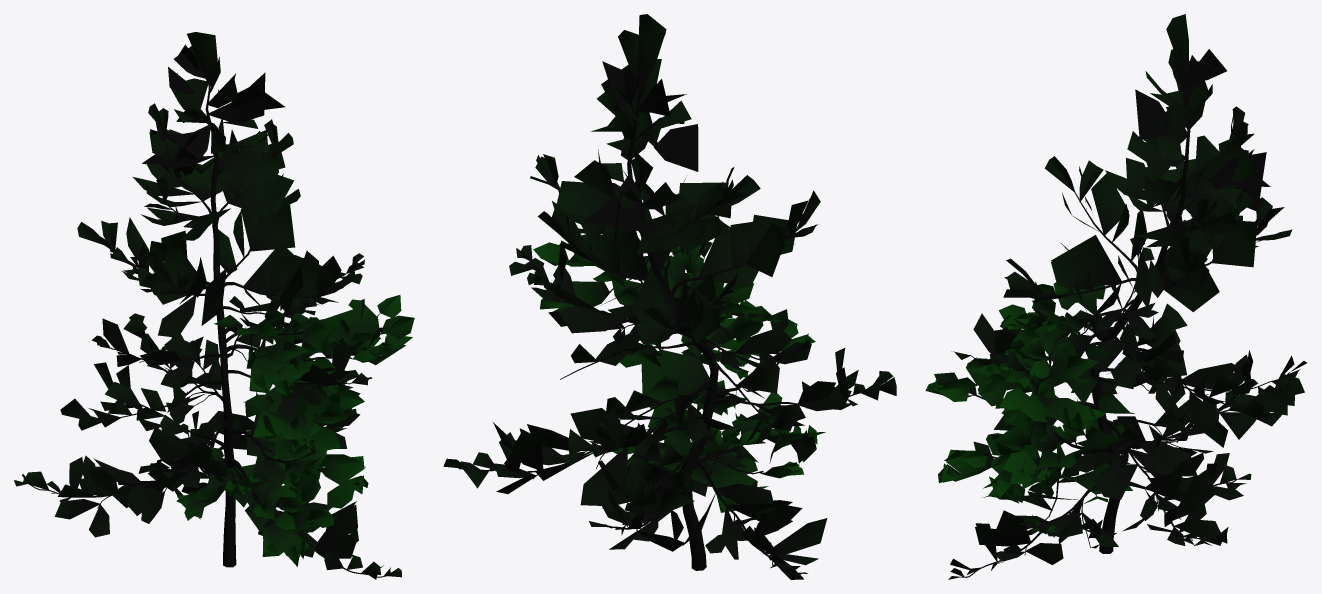
File: Pine_beach_small_02.fbx
The picture shows the model from 3 angles, left to right: view 1: azimuth 30°, elevation 25°; view 2: azimuth 150°, elevation 25°; view 3: azimuth 270°, elevation 25°; orthographic projection. The views are drawn at different scales.
Parts seen in each view (by area): view 1: pine_beach_small_02_LOD0; view 2: pine_beach_small_02_LOD0; view 3: pine_beach_small_02_LOD0.
Boxes of the visible parts, x1,y1,x2,y2 form: pine_beach_small_02_LOD0: (14, 32, 414, 579); pine_beach_small_02_LOD0: (443, 14, 896, 579); pine_beach_small_02_LOD0: (925, 14, 1306, 579).
Size of what is drawn, in the model's own units: 290 by 440 by 280.
